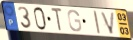0: (33, 6, 48, 32)
3: (17, 6, 33, 29)
G: (67, 9, 83, 33)
I: (92, 10, 102, 35)
T: (50, 7, 64, 32)
V: (100, 11, 116, 36)
